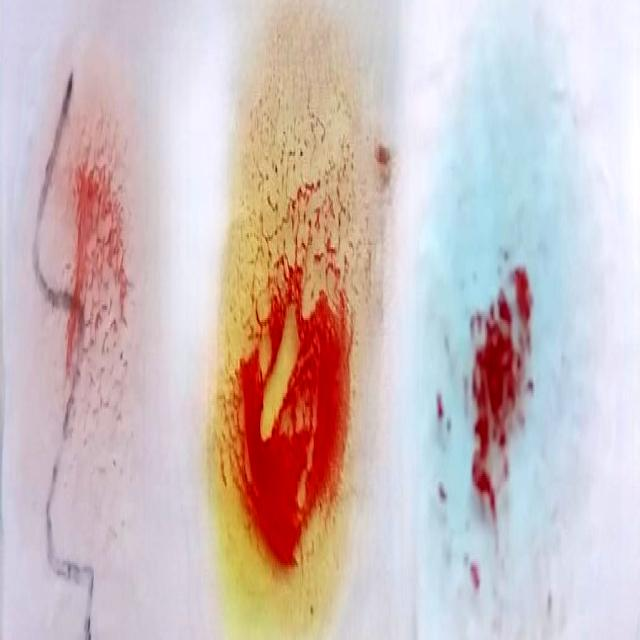A: (439, 73, 563, 640)
B: (222, 24, 371, 640)
D: (36, 59, 128, 571)
